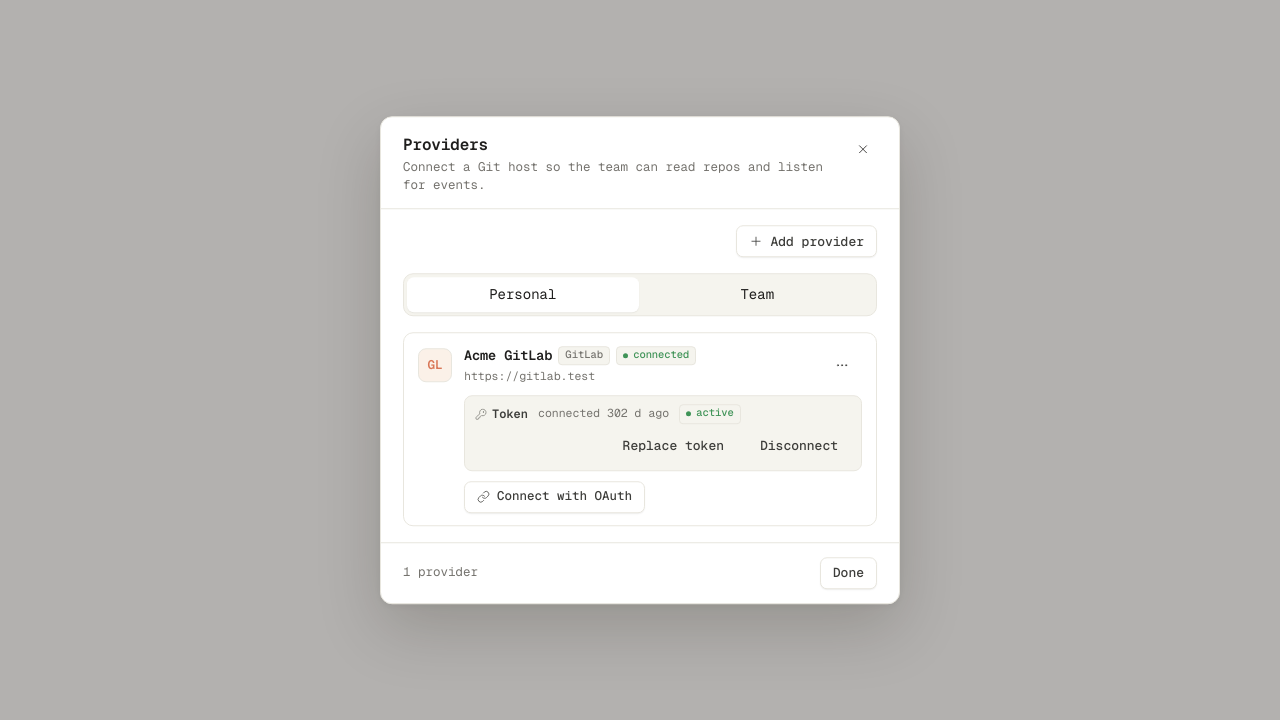
connect remote modal credential controls › gives an admin revoke on a team token
The image size is (1280, 720).
expect the button "Disconnect" is shown: met, box [747, 430, 851, 462]
Step 1. Click the tab "Team" → (757, 295), box [642, 278, 873, 312]
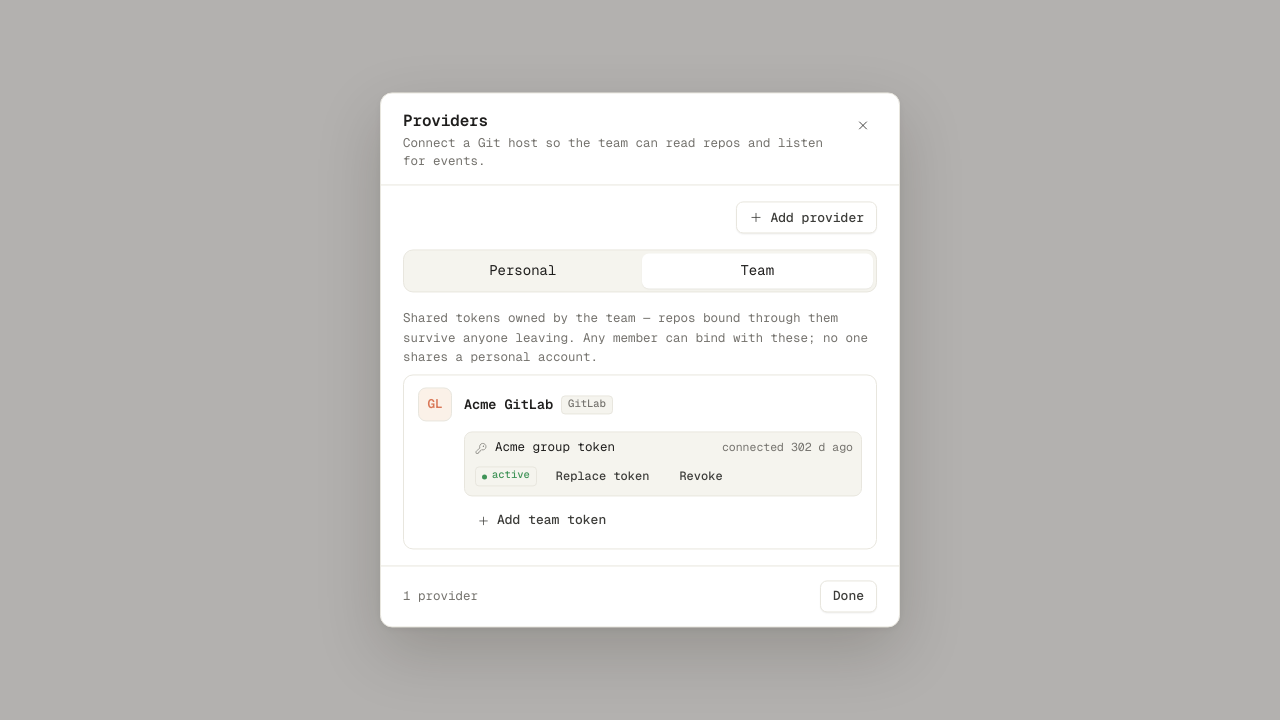
expect the button "Revoke" is shown: met, box [668, 464, 734, 490]
